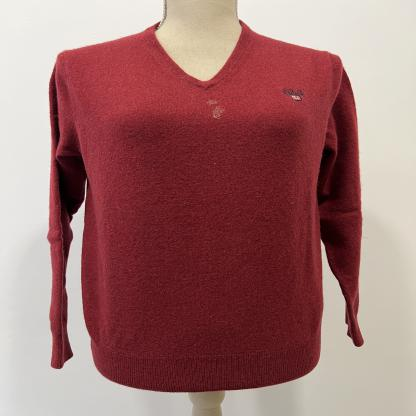stain: (209, 103, 231, 121), (203, 96, 222, 107)
